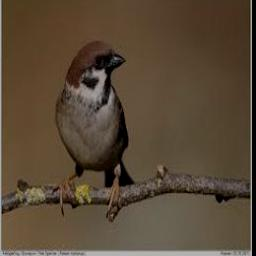Sparrow: (55, 40, 135, 217)
